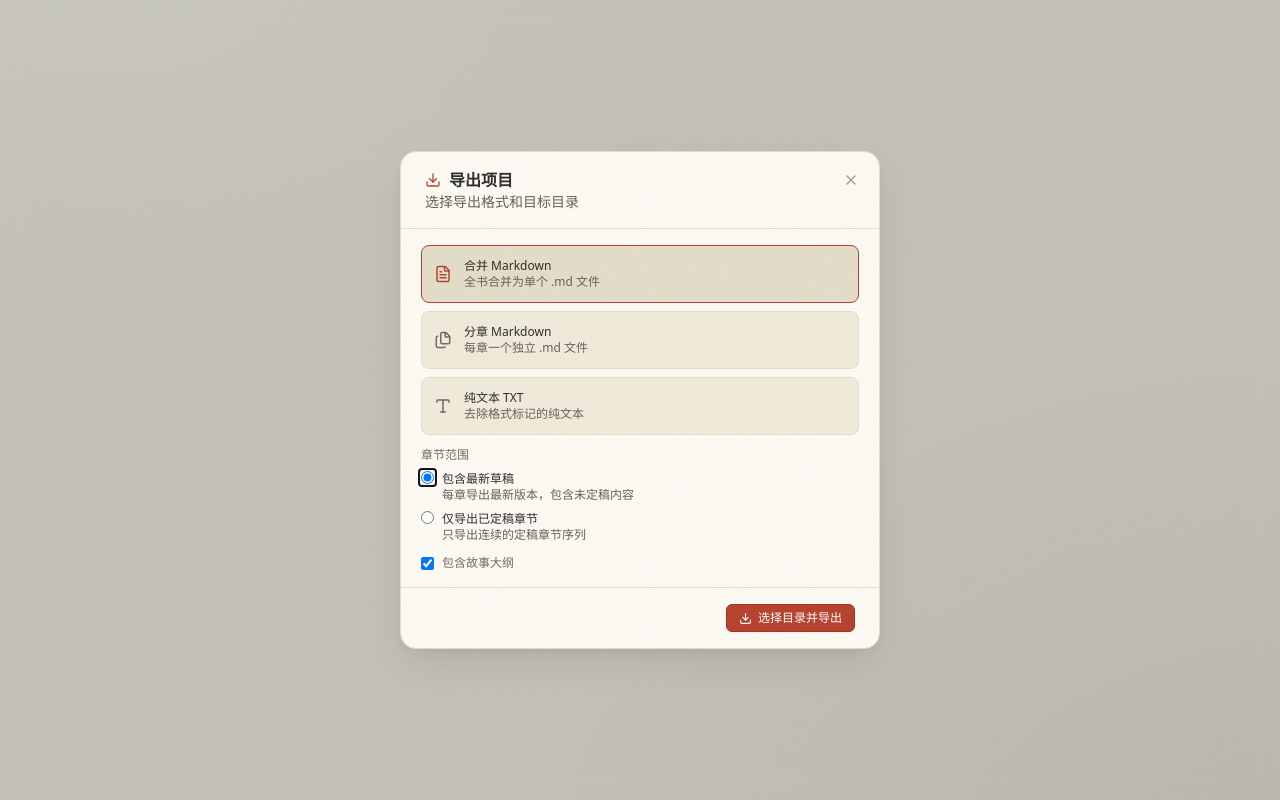
Test: shows picker failures and releases the export lock for retry
What coordinates should you click on to do the following:
click the button "选择目录并导出"
I would click on:
 (790, 618)
Its box is [726,604,855,632].
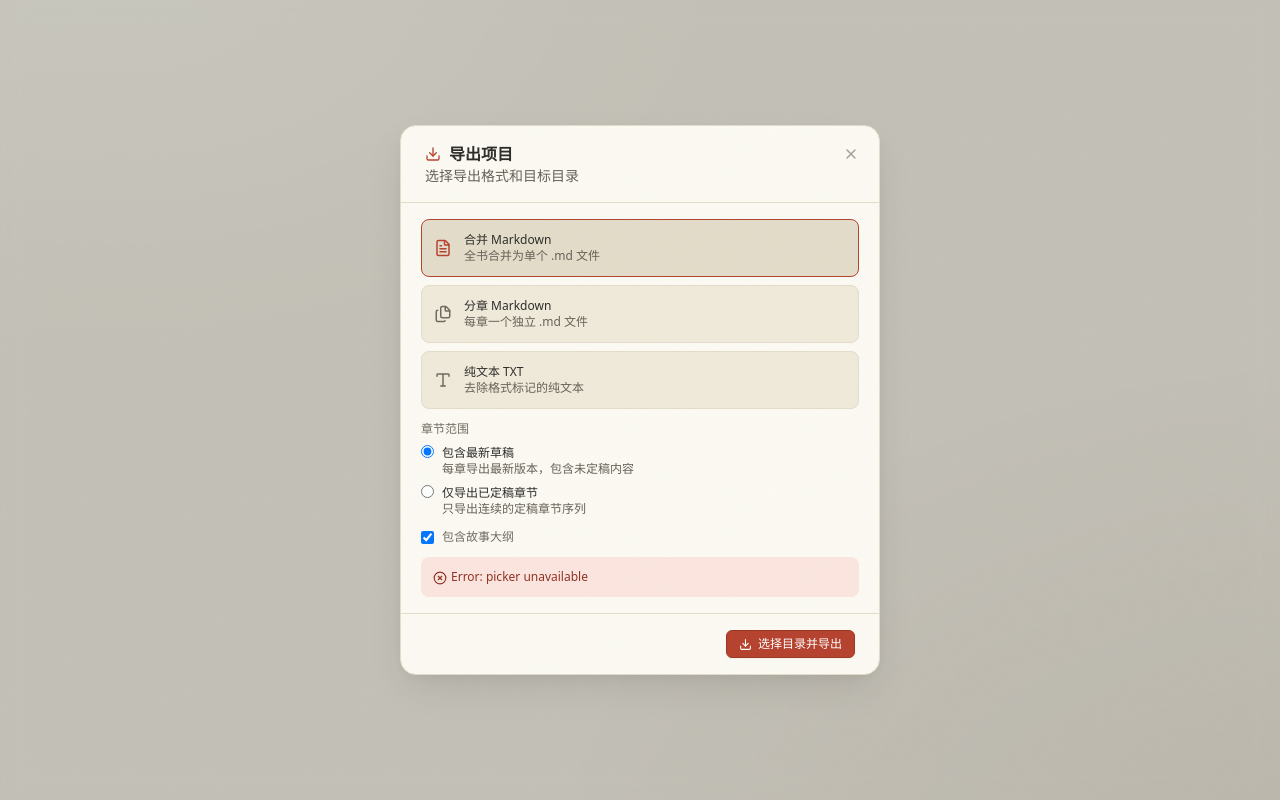
Expected: the button "选择目录并导出" is enabled, [726,630,855,658]
Expected: the text "Error: picker unavailable" is shown, [421,557,859,597]
